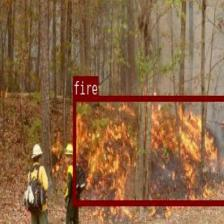fire: (72, 95, 224, 204)
